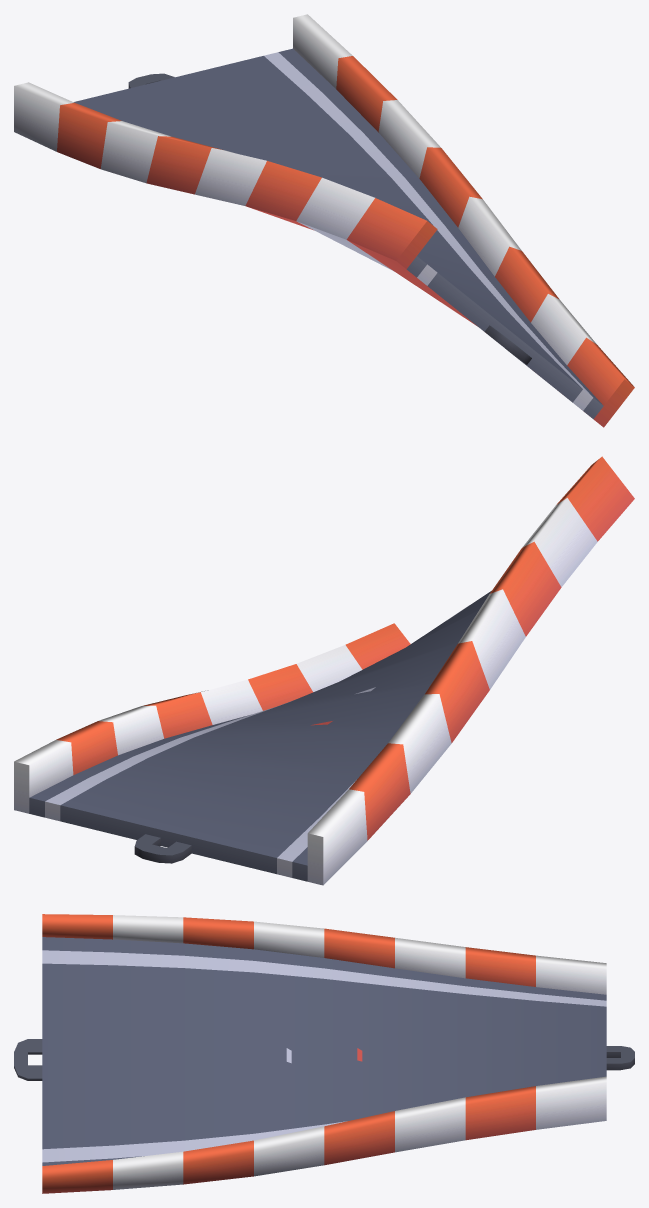
The model's file is kenney-toy-car-track-road-wide-straight-skew-left.glb.
3 renders of one model, top to bottom at view 1: azimuth 30°, elevation 25°; view 2: azimuth 150°, elevation 25°; view 3: azimuth 270°, elevation 25°, orthographic. The views are drawn at different scales.
Parts seen in each view (by area): view 1: track-road-wide-straight-skew-left; view 2: track-road-wide-straight-skew-left; view 3: track-road-wide-straight-skew-left.
Part boxes in pixels (x1,y1,x2,y2): track-road-wide-straight-skew-left: [14, 14, 634, 427]; track-road-wide-straight-skew-left: [14, 456, 634, 885]; track-road-wide-straight-skew-left: [14, 914, 634, 1193].
Bounding box in the file's own units: 2.04 × 1.63 × 4.4.
1 material, 1 textured.
